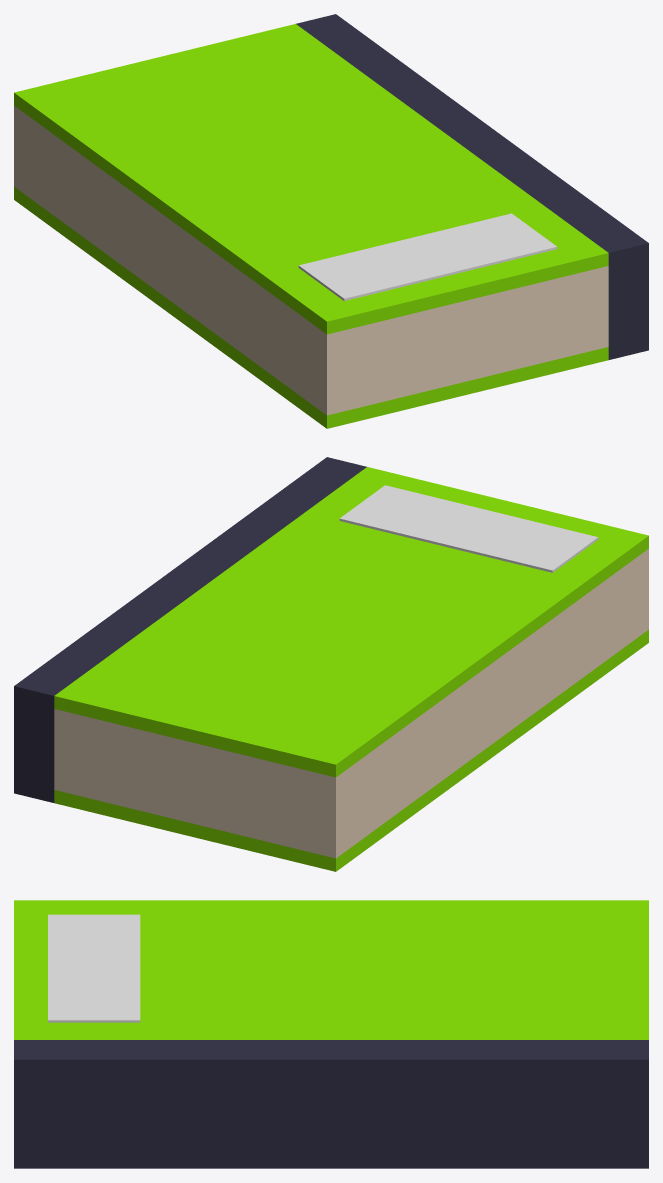
Rendered from book2.fbx.
3 renders of one model, top to bottom at view 1: azimuth 30°, elevation 25°; view 2: azimuth 150°, elevation 25°; view 3: azimuth 270°, elevation 25°, orthographic.
Parts seen in each view (by area): view 1: Cube.033, Cube.032; view 2: Cube.033, Cube.032; view 3: Cube.033, Cube.032.
Part boxes in pixels (x1,y1,x2,y2): Cube.033: (14,14,648,428); Cube.032: (298,213,557,300); Cube.033: (14,457,648,871); Cube.032: (339,485,598,572); Cube.033: (14,900,648,1168); Cube.032: (48,914,140,1022).
Bounding box in the file's own units: 181 × 935 × 555.
